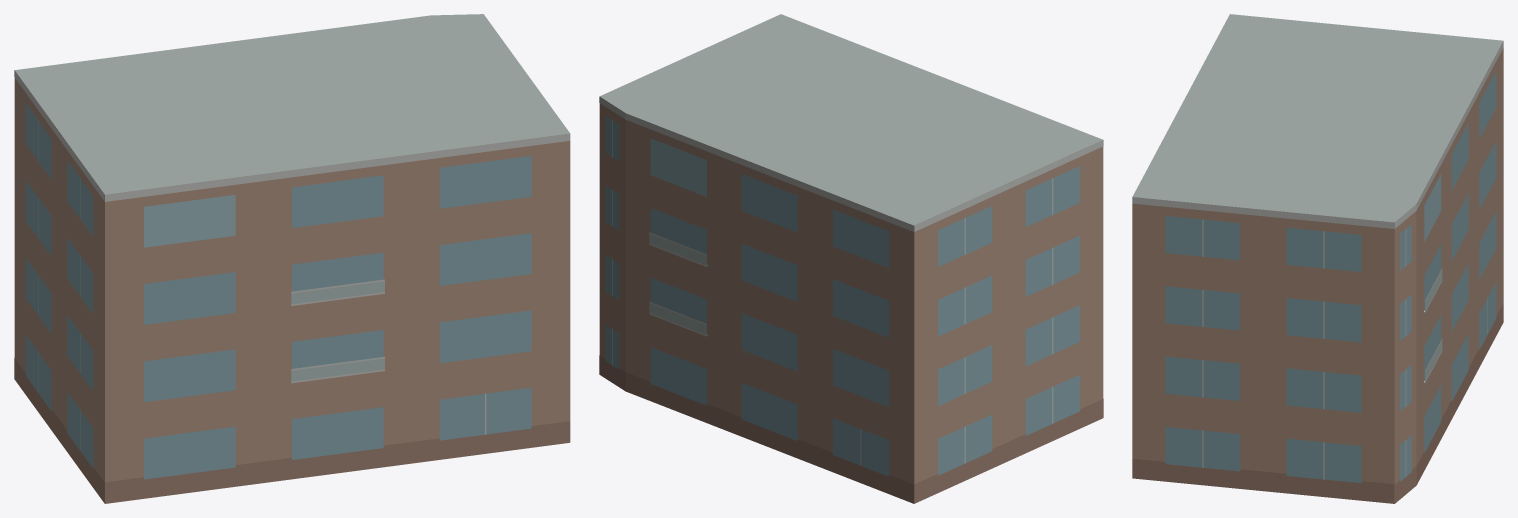
File: survey-upis-32997640.glb
3 renders of one model, left to right at view 1: azimuth 30°, elevation 25°; view 2: azimuth 150°, elevation 25°; view 3: azimuth 270°, elevation 25°, orthographic. The views are drawn at different scales.
Visible parts, largest first — view 1: survey-upis-32997640.tmp; view 2: survey-upis-32997640.tmp; view 3: survey-upis-32997640.tmp.
Part boxes in pixels (box(x1,y1,x2,y2)): survey-upis-32997640.tmp: box(14, 14, 570, 503); survey-upis-32997640.tmp: box(599, 14, 1103, 503); survey-upis-32997640.tmp: box(1132, 14, 1503, 503).
Size of the model in its own units: 16.7 by 10.5 by 12.57.
